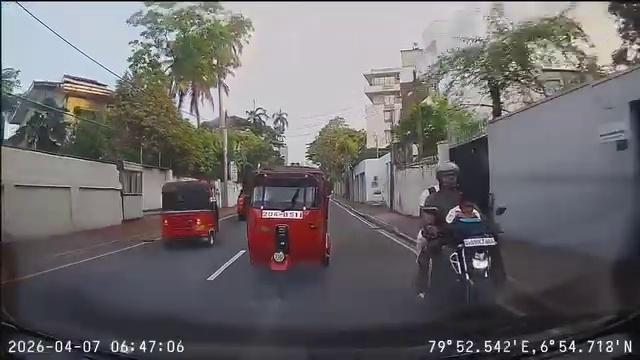no helmet: (453, 195, 479, 220)
